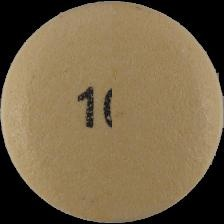13668-107: (0, 0, 224, 224)
